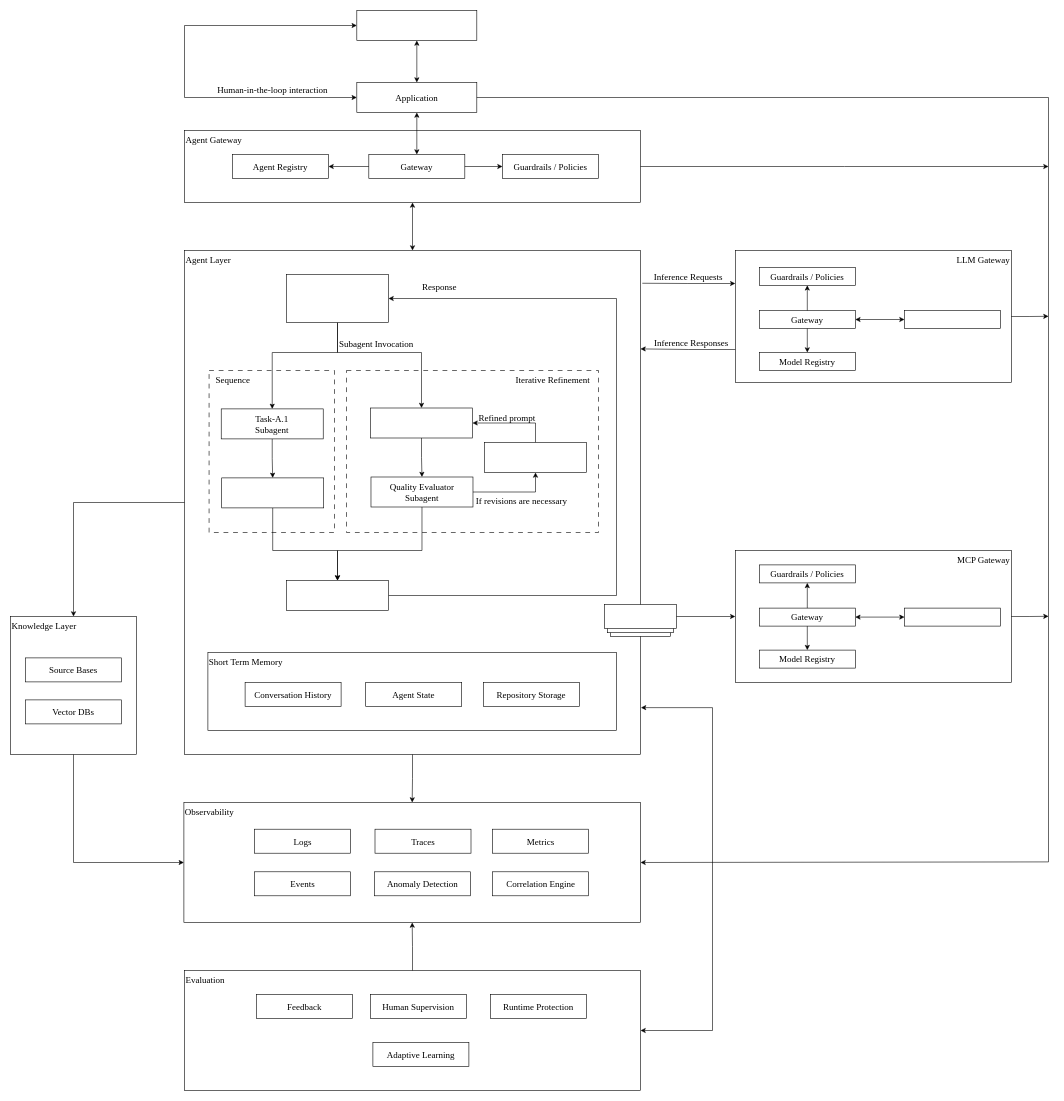
The diagram is 1064 pixels wide and 1101 high, and some of its shapes have lost their labels. The shapes that lost their labels are listed below. From the top down, each one's centre as x and y in pixels, then its label:
At pixel 416 25: "User".
At pixel 337 298: "Supervisor Agent".
At pixel 952 319: "LLM ZOO".
At pixel 421 422: "Task-B Subagent".
At pixel 535 457: "Prompt Enhancer Subagent".
At pixel 272 492: "Task-A.2 Subagent".
At pixel 337 595: "Response Generator Subagent".
At pixel 640 616: "MCP Clients".
At pixel 952 617: "MCP ZOO".
